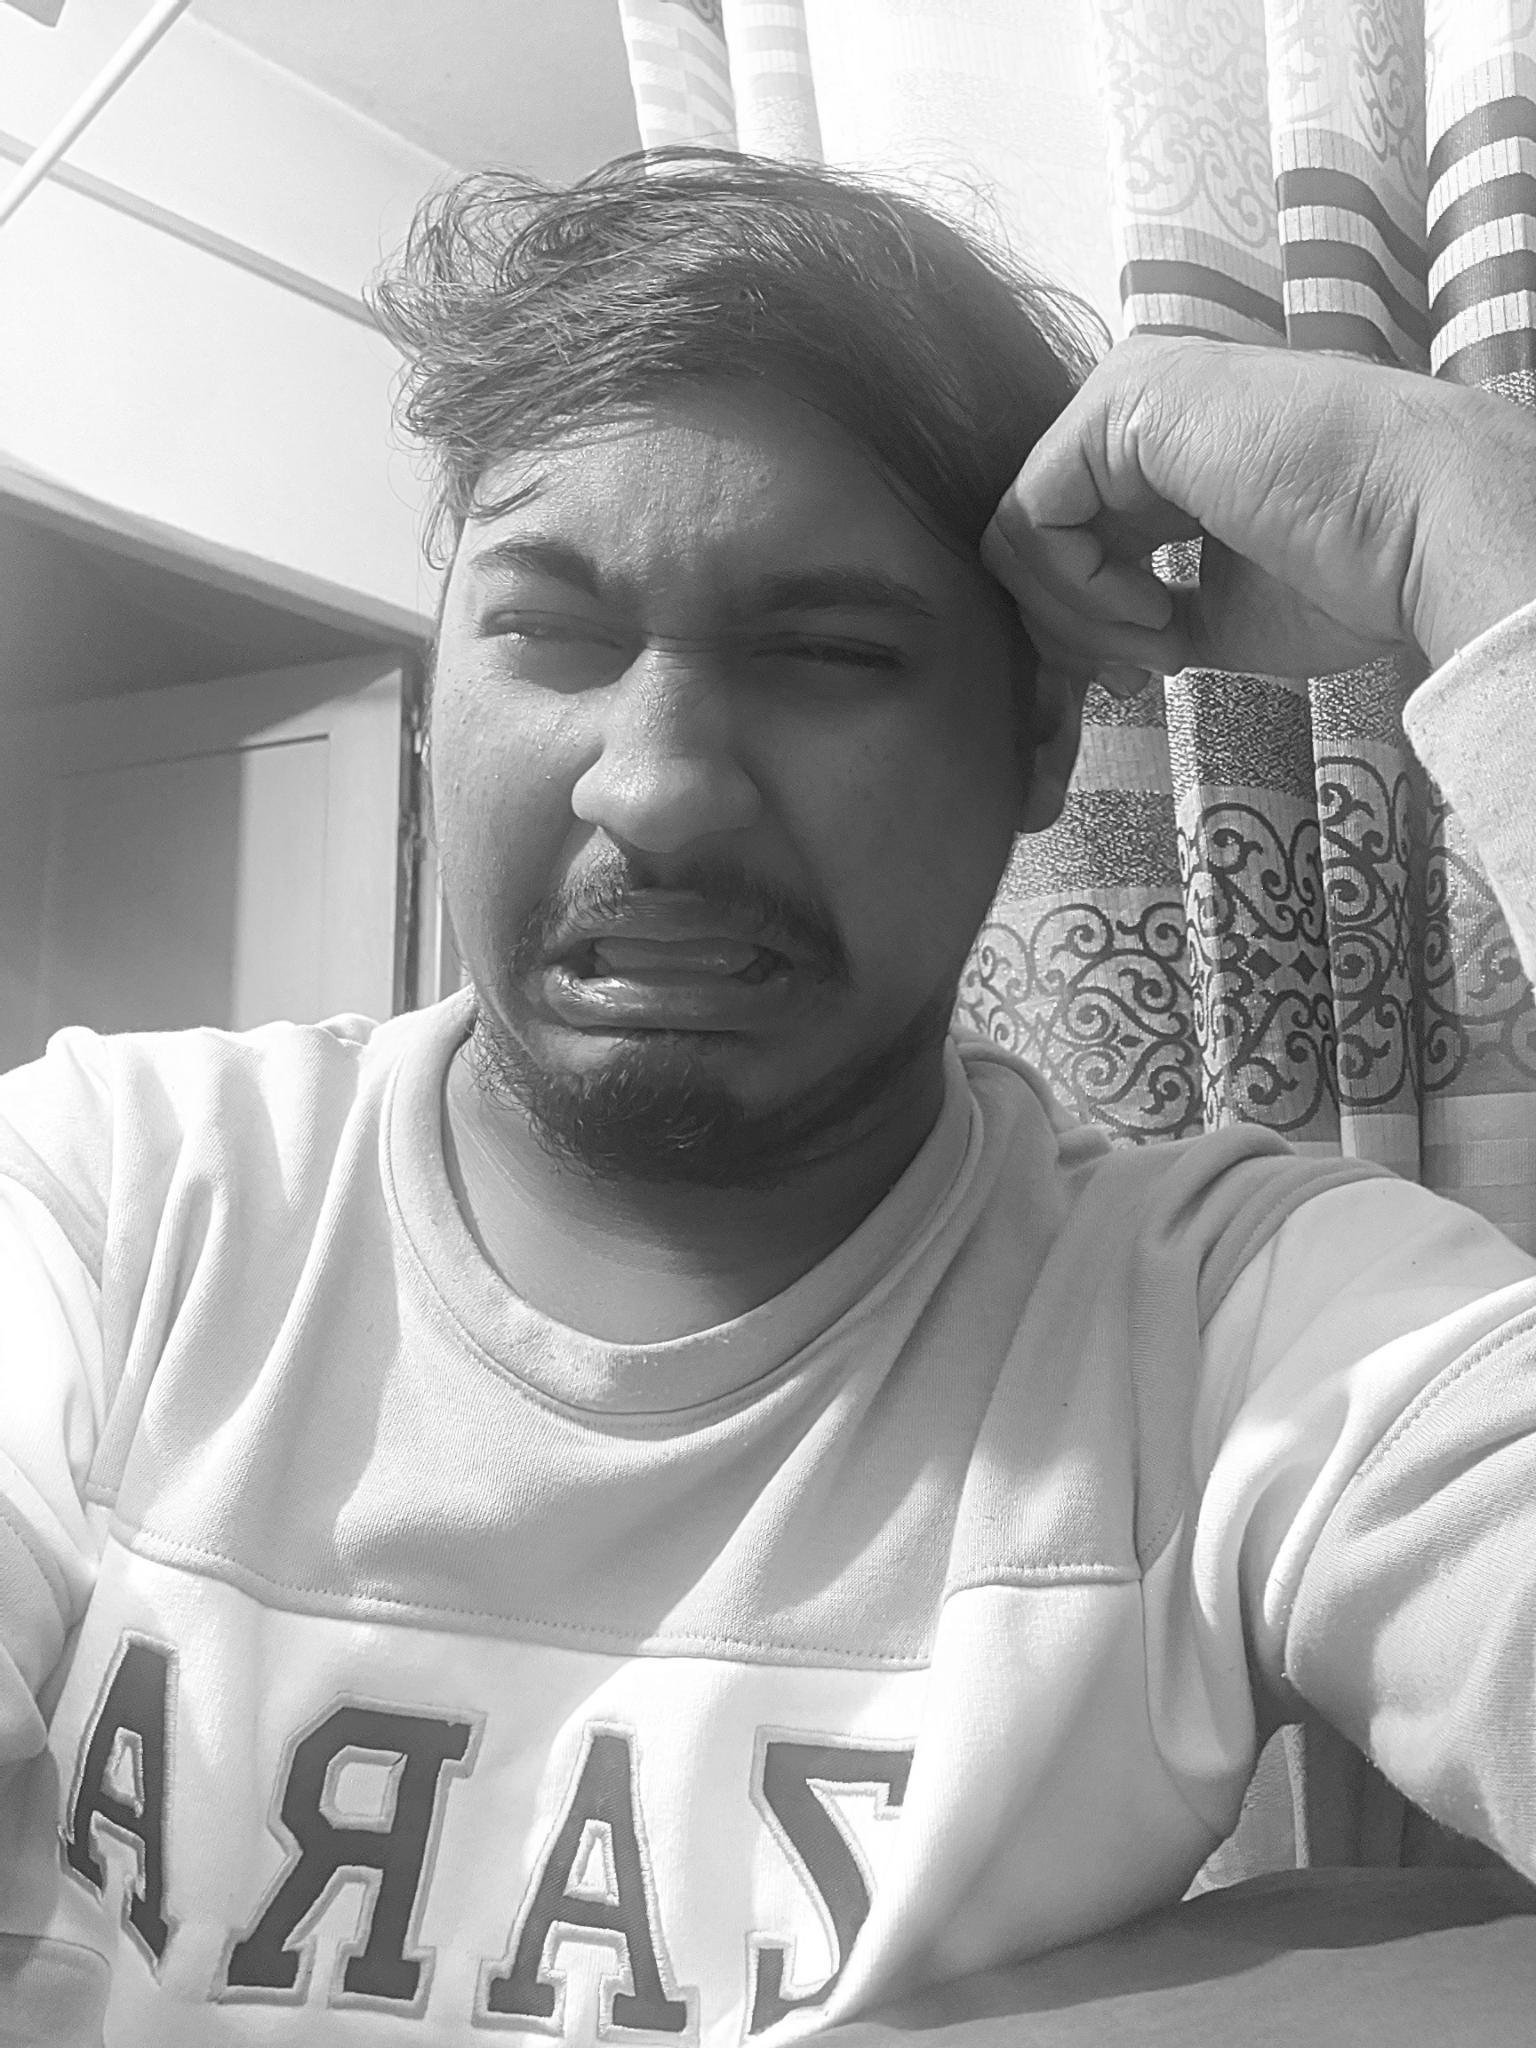Disgust: (405, 423, 981, 1151)
